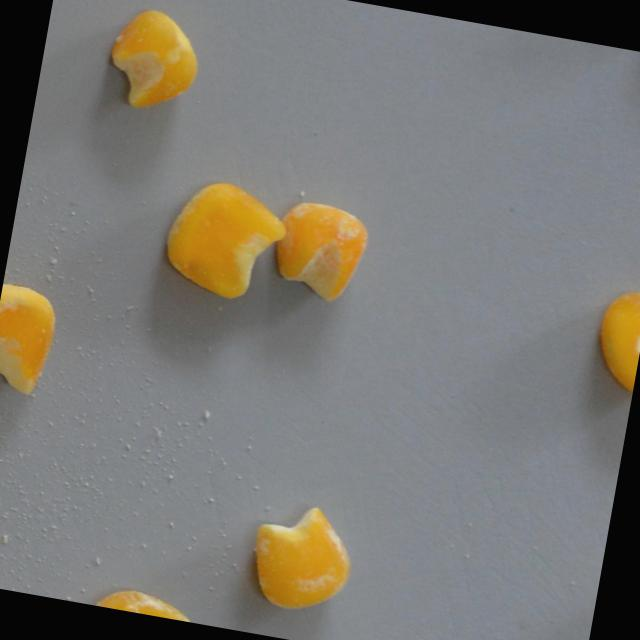pelicula: (155, 171, 294, 308), (234, 491, 365, 622), (94, 0, 209, 121), (264, 191, 375, 308), (0, 280, 60, 401), (586, 282, 640, 395), (83, 578, 199, 623)
